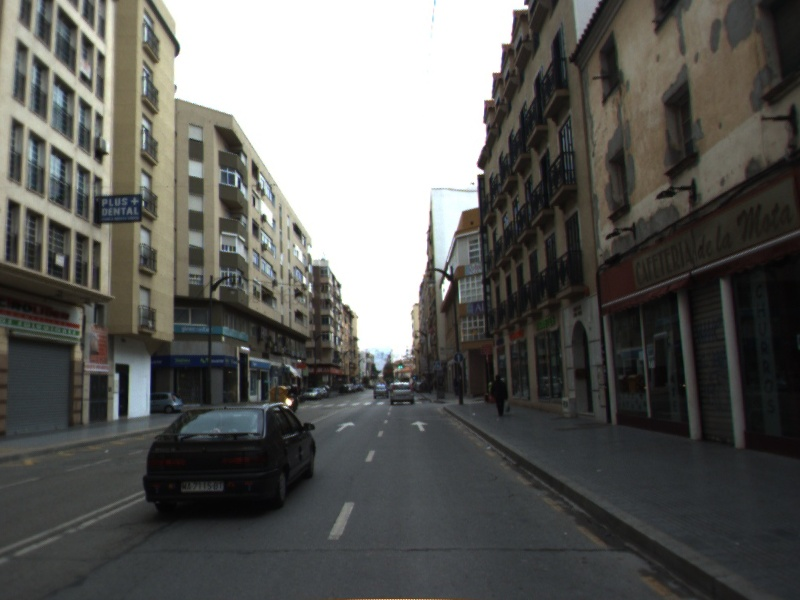STRAIGHT: (333, 419, 358, 434), (408, 419, 431, 433)
